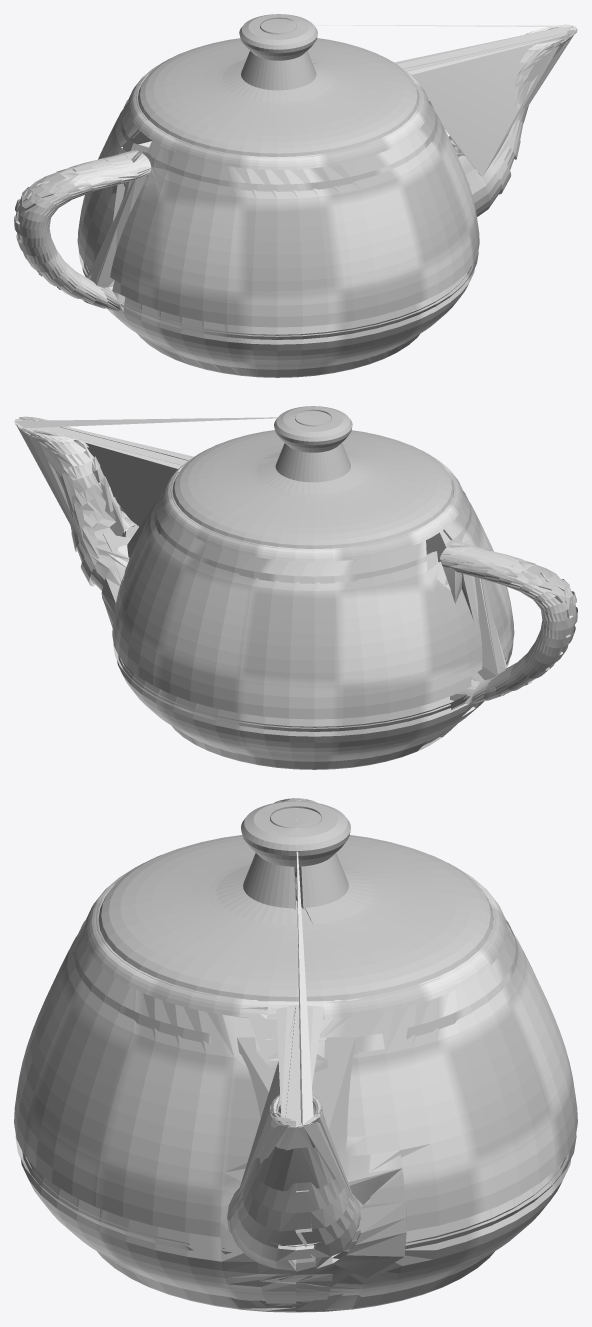
Rendered from teapot.obj.
3 views of the same model, one above another, from view 1: azimuth 30°, elevation 25°; view 2: azimuth 150°, elevation 25°; view 3: azimuth 270°, elevation 25° (orthographic). The views are drawn at different scales.
Visible parts, largest first — view 1: Base, Top; view 2: Base, Top; view 3: Base, Top.
Part boxes in pixels (left/top/right/bottom): Base: left=14, top=24, right=577, bottom=377; Top: left=138, top=14, right=419, bottom=156; Base: left=14, top=416, right=577, bottom=769; Top: left=172, top=406, right=453, bottom=548; Base: left=14, top=798, right=577, bottom=1312; Top: left=98, top=801, right=493, bottom=1001.
Bounding box in the file's own units: 154 × 79.01 × 95.86.
